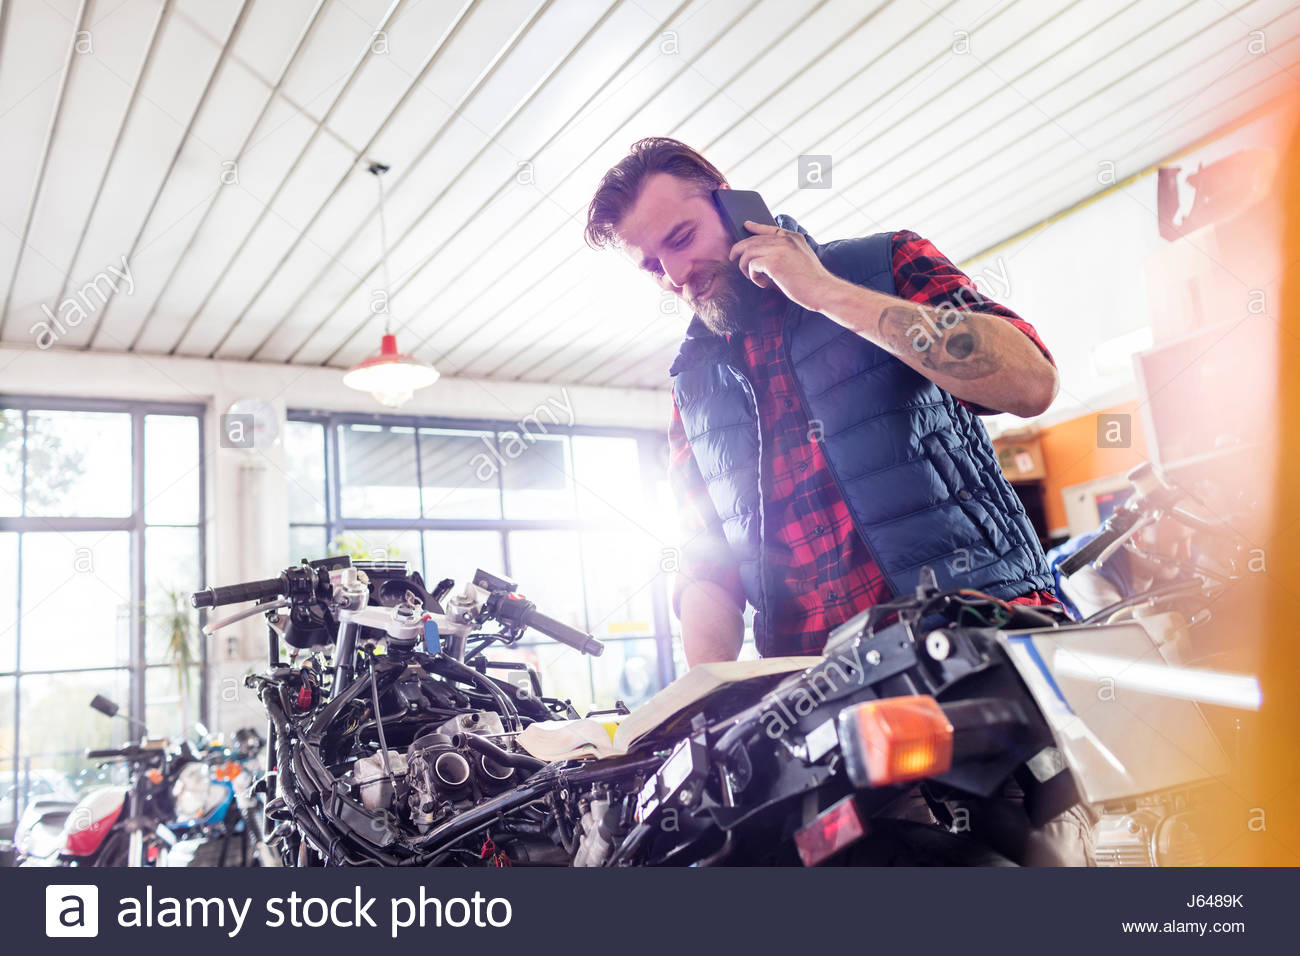su dung dien thoai: (602, 137, 830, 361)
